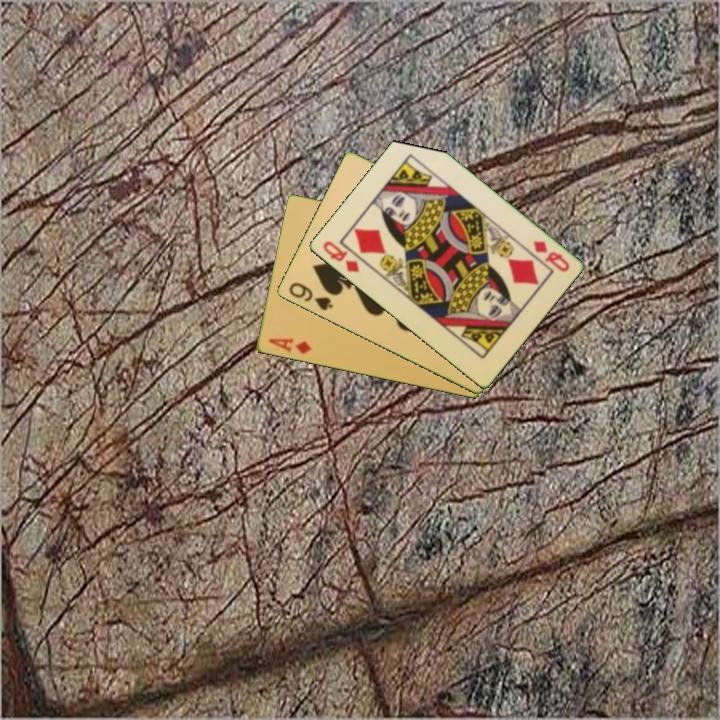9s: (285, 279, 335, 314)
Ad: (265, 334, 314, 357)
Qd: (319, 237, 362, 276), (529, 237, 572, 275)
